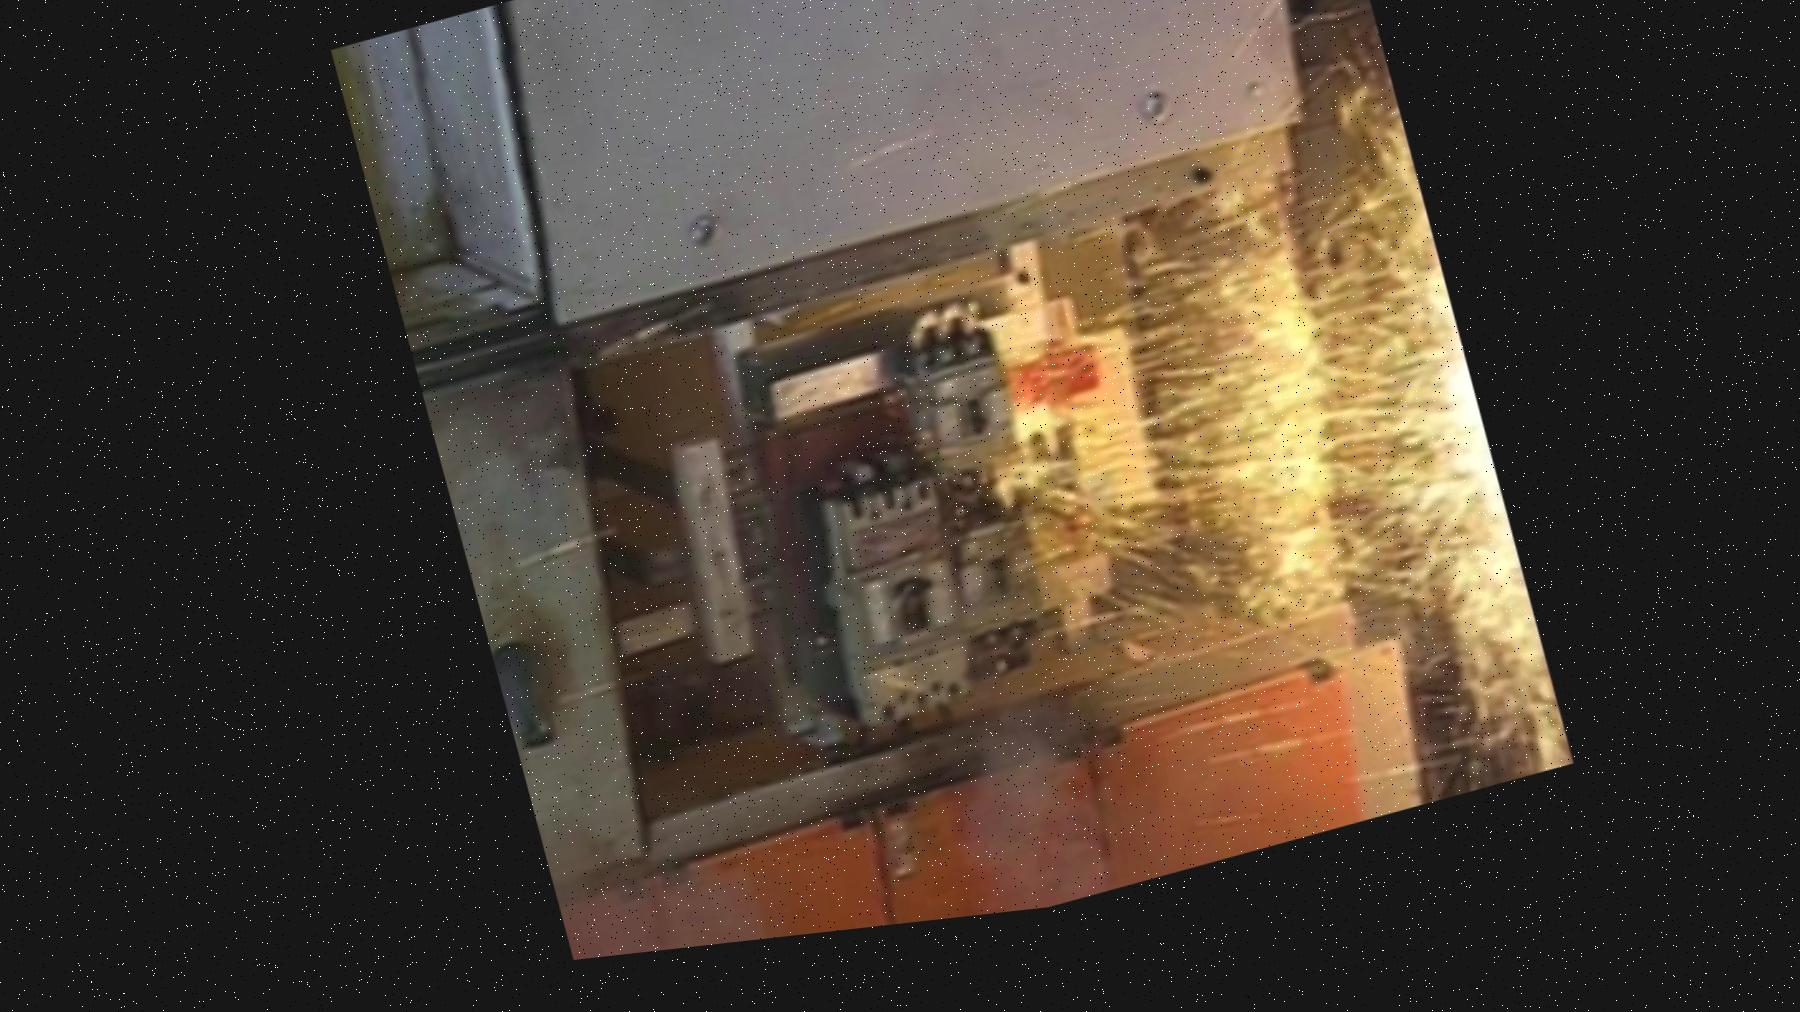fire: (827, 100, 1559, 711)
